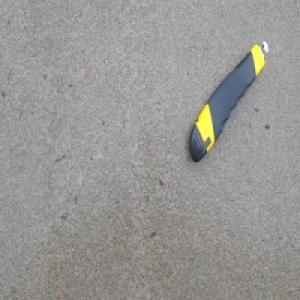Cutter: (188, 41, 269, 166)
